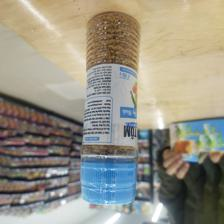TayNinh_blue: (78, 11, 141, 207)
